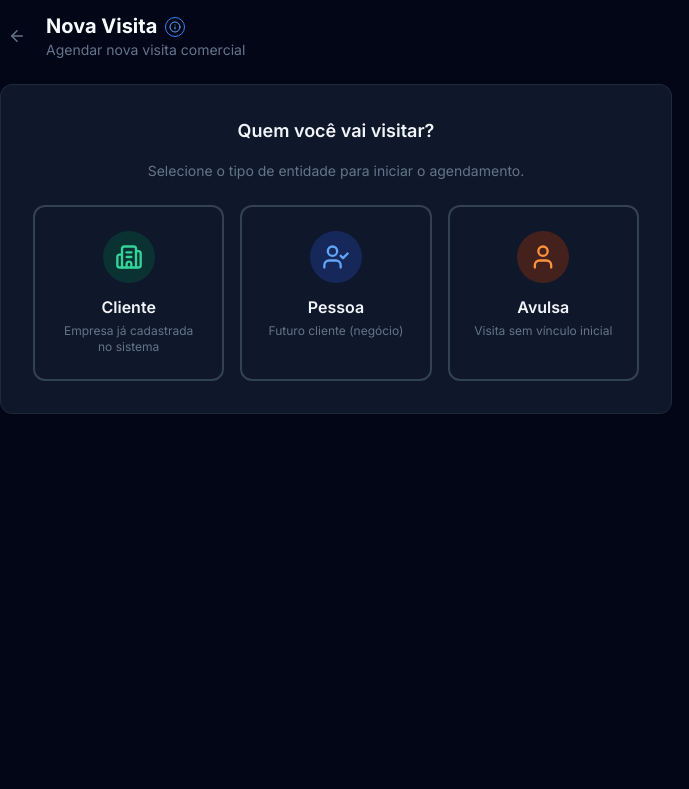
Test case: NovaVisitaPage › volta ao seletor ao clicar em Trocar
Expected: the heading "Nova Visita" is shown, [46,14,185,38]
Click the button "Pessoa Futuro cliente (negócio)".
click(336, 293)  # box [240,205,432,381]
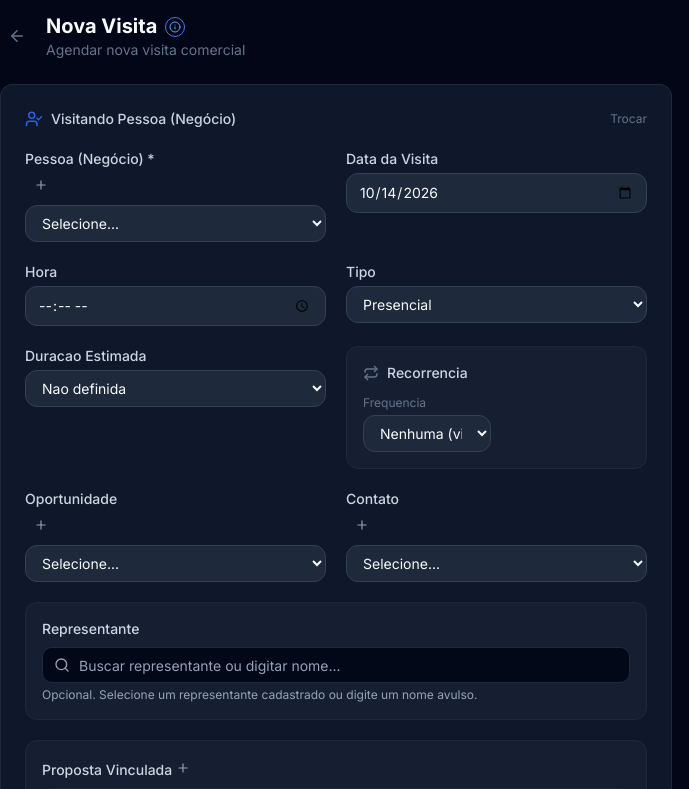
Expected: the text "Visitando Pessoa (Negócio)" is shown, [51,109,236,129]
Click the button "Trocar".
click(629, 119)  # box [610,111,647,127]
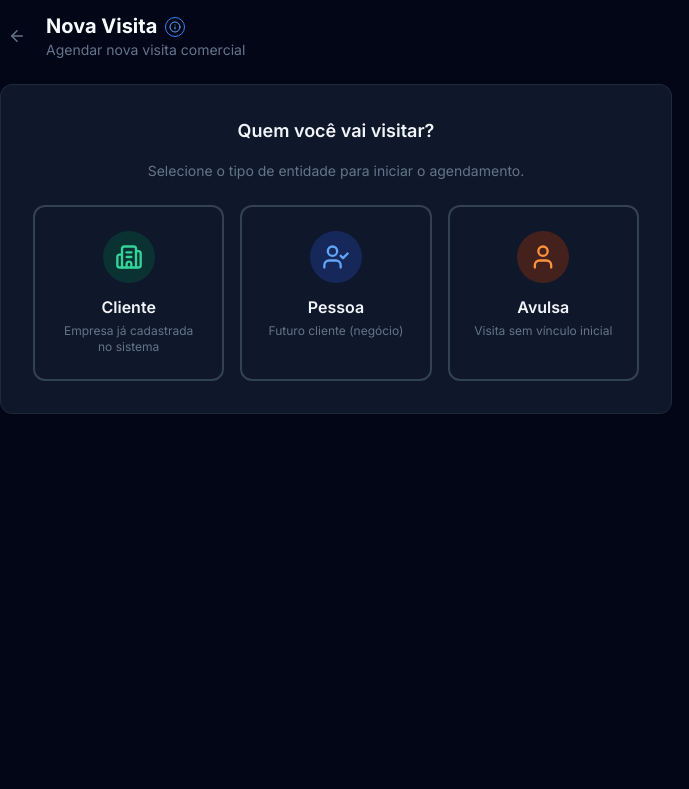
Expected: the heading "Quem você vai visitar?" is shown, [238,120,434,141]
Expected: the text "Visitando Pessoa (Negócio)" is gone
